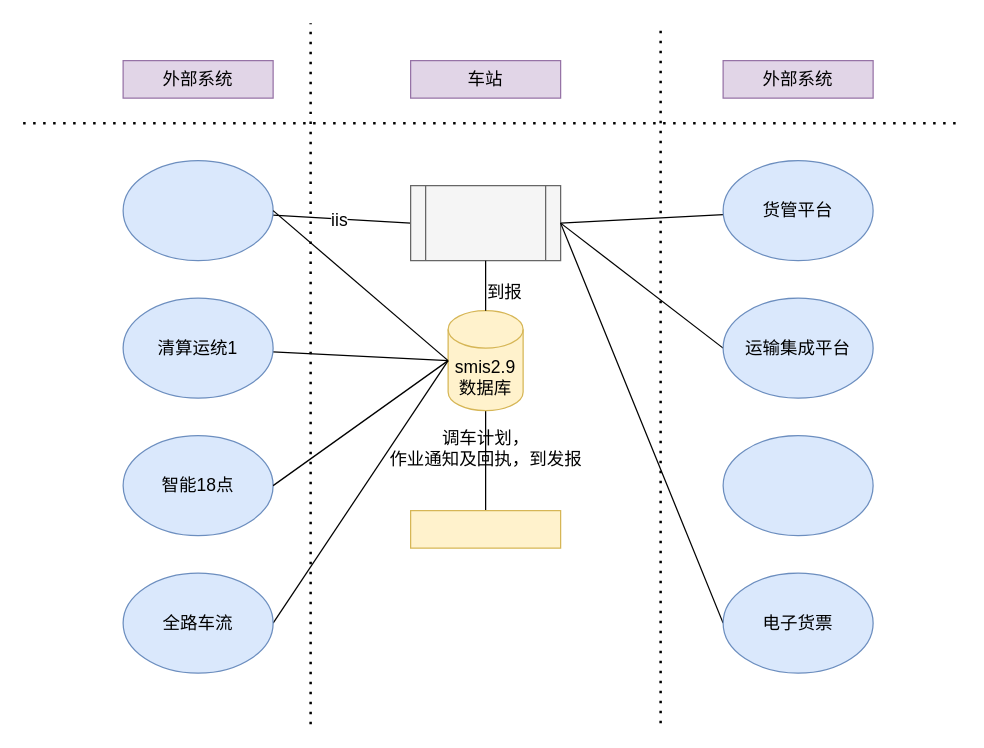
The diagram is 984 pixels wide and 748 high, and some of its shapes have lost their labels. The centre of each missing label's shape, as x and y in pixels:
"Sam控制系统" goes at [485,528].
"smis2.9应用及服务器" goes at [485,222].
"确报系统" goes at [797,485].
"货运集装箱" goes at [197,210].
